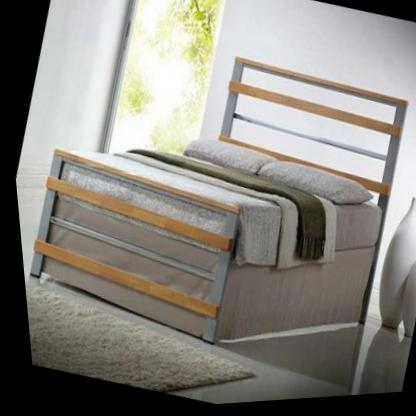Bed: (2, 9, 416, 396)
